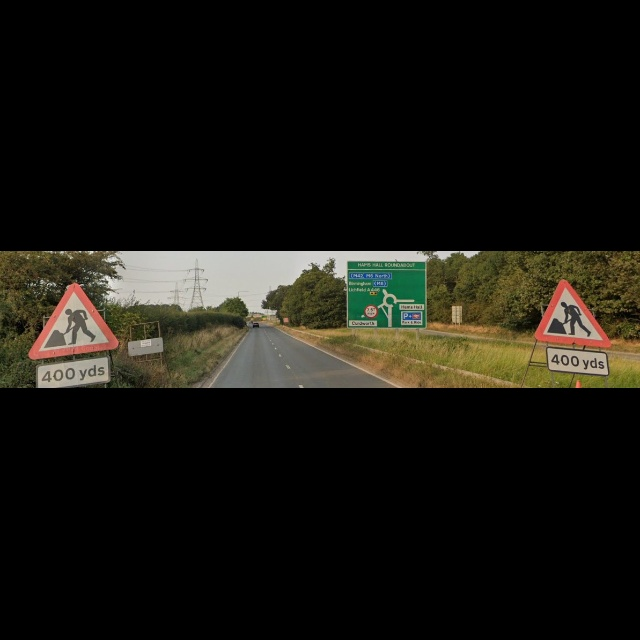Roadworks: (27, 282, 121, 362), (532, 278, 613, 349)
